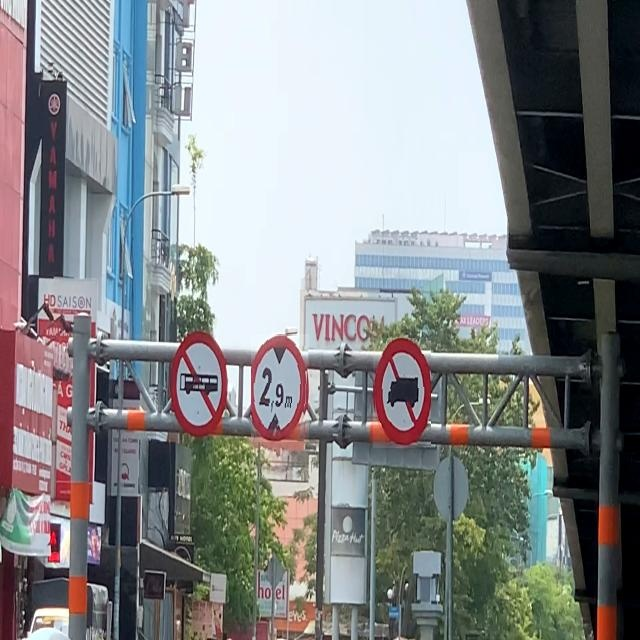bien_cam: (373, 338, 431, 448), (251, 334, 309, 442)
